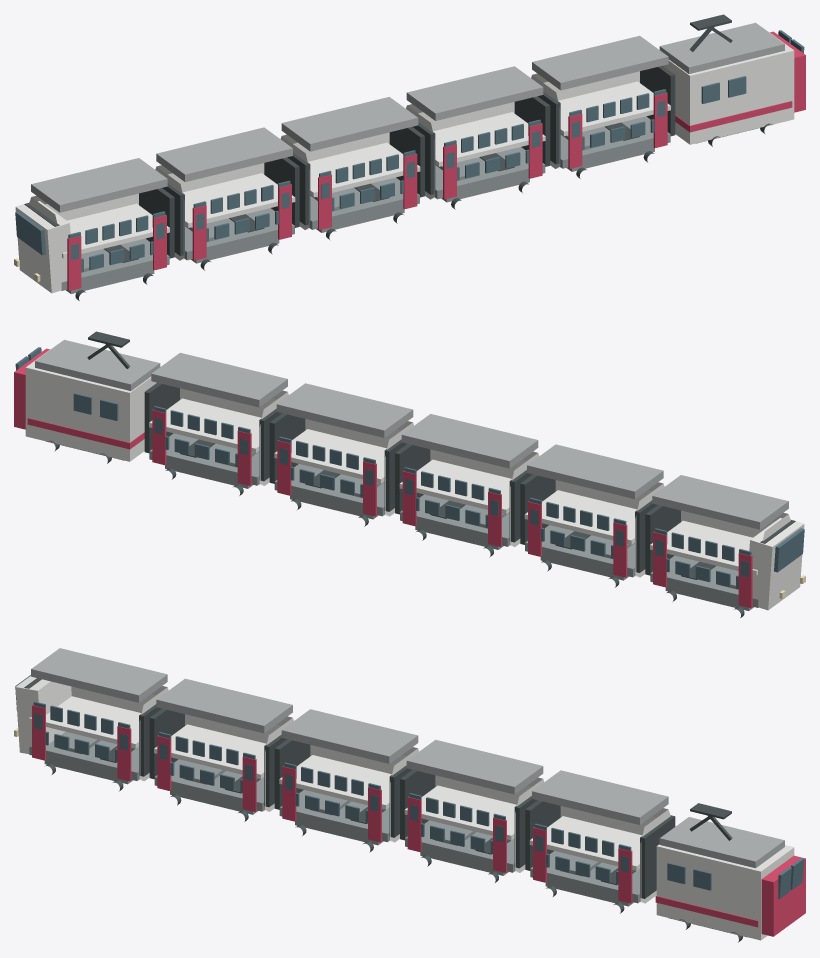
The picture shows the model from 3 angles, top to bottom: view 1: azimuth 30°, elevation 25°; view 2: azimuth 150°, elevation 25°; view 3: azimuth 330°, elevation 25°; orthographic projection.
Visible parts, largest first — view 1: body_shell, ic2_car_2_roof, ic2_car_3_roof, ic2_car_1_roof, ic2_car_4_roof, ic2_car_5_roof, roof, ic2_car_5_tail_cab_face, ic2_car_1_window_divider, ic2_car_4_window_divider, ic2_car_2_window_divider, ic2_car_3_window_divider (+33 smaller); view 2: body_shell, ic2_car_2_roof, ic2_car_3_roof, ic2_car_1_roof, ic2_car_4_roof, ic2_car_5_roof, roof, ic2_car_5_tail_cab_face, ic2_car_1_window_divider, ic2_car_4_window_divider, ic2_car_2_window_divider, ic2_car_3_window_divider (+33 smaller); view 3: body_shell, ic2_car_3_roof, ic2_car_2_roof, ic2_car_4_roof, ic2_car_5_roof, ic2_car_1_roof, roof, ic2_car_4_window_divider, ic2_car_1_window_divider, ic2_car_3_window_divider, ic2_car_2_window_divider, br147_red_cab (+32 smaller).
Part boxes in pixels (<box>): body_shell: <box>663,26,794,144</box>; ic2_car_2_roof: <box>406,66,543,120</box>; ic2_car_3_roof: <box>281,97,418,151</box>; ic2_car_1_roof: <box>532,35,668,90</box>; ic2_car_4_roof: <box>156,127,292,181</box>; ic2_car_5_roof: <box>31,158,167,212</box>; roof: <box>659,22,784,73</box>; ic2_car_5_tail_cab_face: <box>15,201,70,293</box>; ic2_car_1_window_divider: <box>558,81,670,136</box>; ic2_car_4_window_divider: <box>182,173,295,227</box>; ic2_car_2_window_divider: <box>433,112,545,166</box>; ic2_car_3_window_divider: <box>308,142,420,197</box>; body_shell: <box>25,343,156,461</box>; ic2_car_2_roof: <box>276,383,413,437</box>; ic2_car_3_roof: <box>401,414,538,468</box>; ic2_car_1_roof: <box>151,352,287,407</box>; ic2_car_4_roof: <box>527,444,663,498</box>; ic2_car_5_roof: <box>652,475,788,529</box>; roof: <box>35,339,160,390</box>; ic2_car_5_tail_cab_face: <box>749,518,804,610</box>; ic2_car_1_window_divider: <box>149,398,261,453</box>; ic2_car_4_window_divider: <box>524,490,637,544</box>; ic2_car_2_window_divider: <box>274,429,386,483</box>; ic2_car_3_window_divider: <box>399,459,511,514</box>; body_shell: <box>656,844,794,940</box>; ic2_car_3_roof: <box>281,709,418,763</box>; ic2_car_2_roof: <box>406,739,543,794</box>; ic2_car_4_roof: <box>156,678,292,733</box>; ic2_car_5_roof: <box>31,648,167,702</box>; ic2_car_1_roof: <box>532,770,668,824</box>; roof: <box>659,817,784,868</box>; ic2_car_4_window_divider: <box>154,724,266,779</box>; ic2_car_1_window_divider: <box>529,816,642,870</box>; ic2_car_3_window_divider: <box>279,755,391,809</box>; ic2_car_2_window_divider: <box>404,785,516,840</box>; br147_red_cab: <box>761,855,805,936</box>.
Size of the model in its own units: 9.56 by 1.32 by 0.791.
